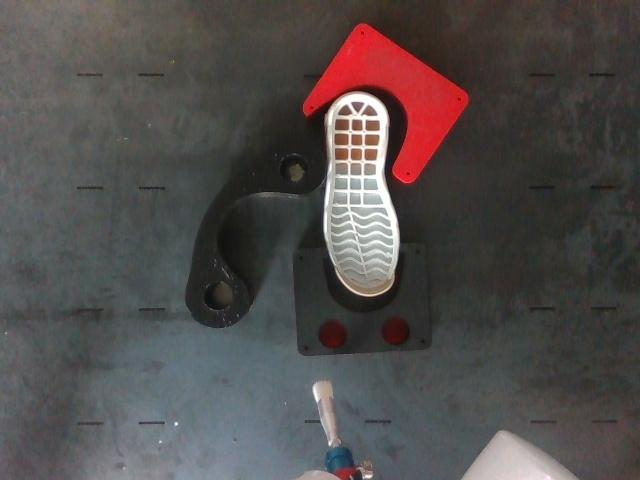shoes: (325, 93, 398, 295)
